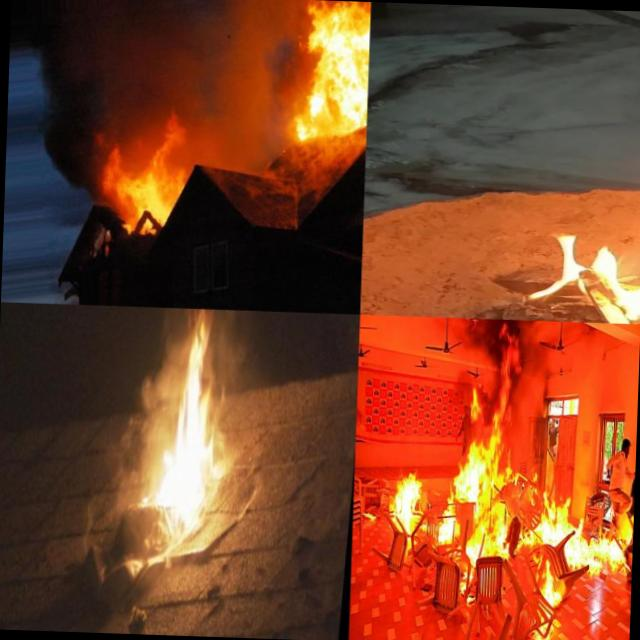fire: (524, 136, 640, 323), (102, 102, 208, 241), (283, 0, 371, 142), (154, 441, 224, 540), (177, 311, 227, 444), (450, 428, 512, 514), (462, 516, 532, 572), (566, 518, 626, 580), (536, 484, 570, 549), (393, 461, 424, 532), (530, 553, 564, 614), (432, 484, 456, 548), (466, 382, 482, 423), (532, 621, 555, 640)
smoke: (449, 318, 551, 386), (142, 311, 180, 441), (98, 440, 158, 510), (78, 508, 119, 560)
